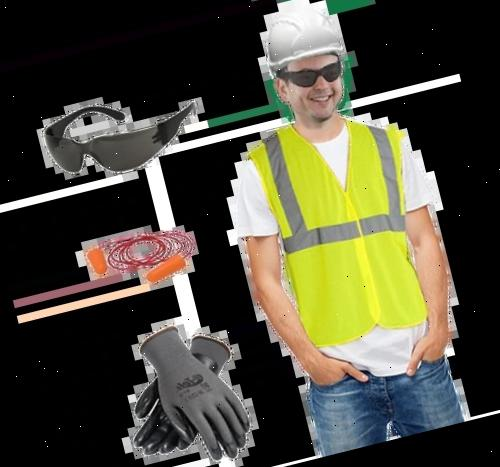helmet: (253, 2, 346, 74)
wear: (246, 105, 448, 352)
